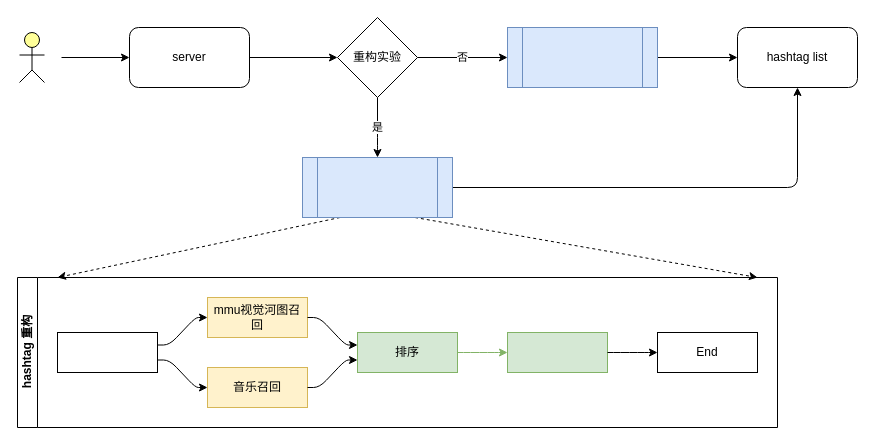
Some shapes in this 875 by 445 pixel diagram are drawn without their labels. Each missing label, with the centre of its shape:
"mmu hashtag server" belongs at point (582, 57).
"Start" belongs at point (107, 352).
"搜索 hashtag server" belongs at point (377, 187).
"重排" belongs at point (557, 352).
